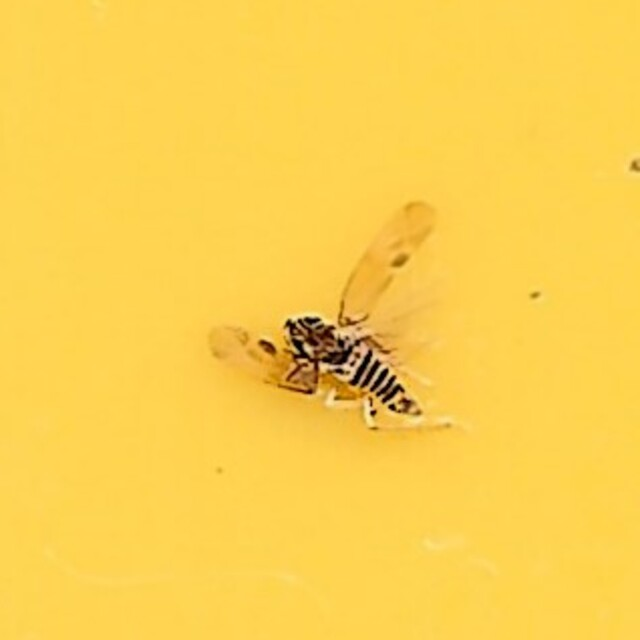Nematocera: (201, 208, 439, 432)
